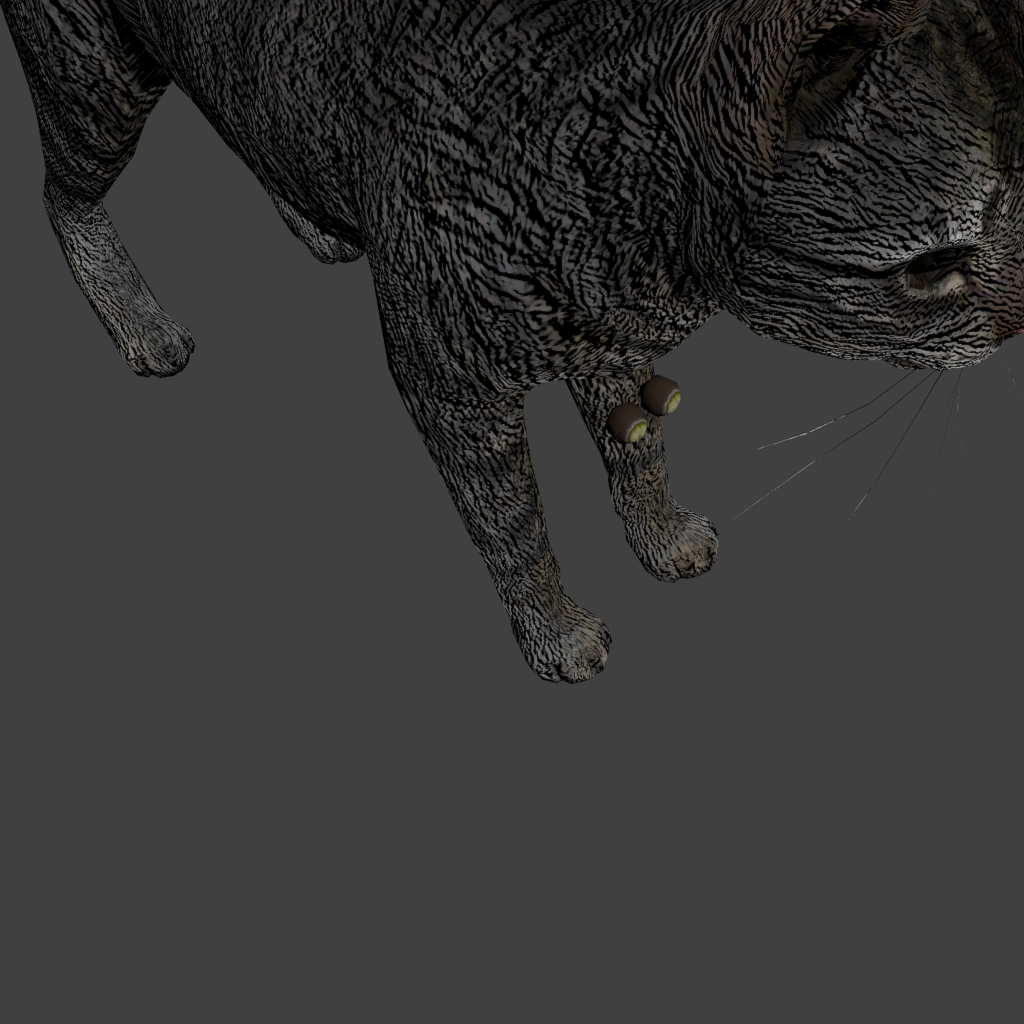Cat: (0, 0, 1024, 684)
